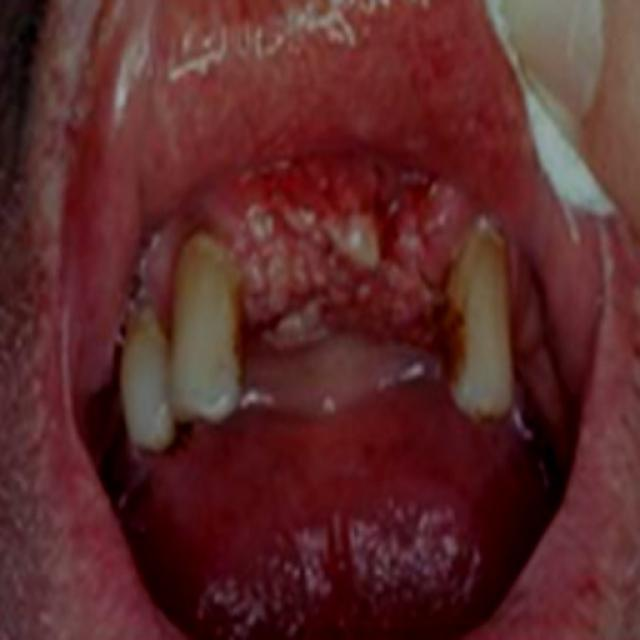cancer-detection: (110, 99, 545, 413), (180, 499, 503, 639)
processing_area: (58, 1, 608, 438), (116, 380, 576, 639)
